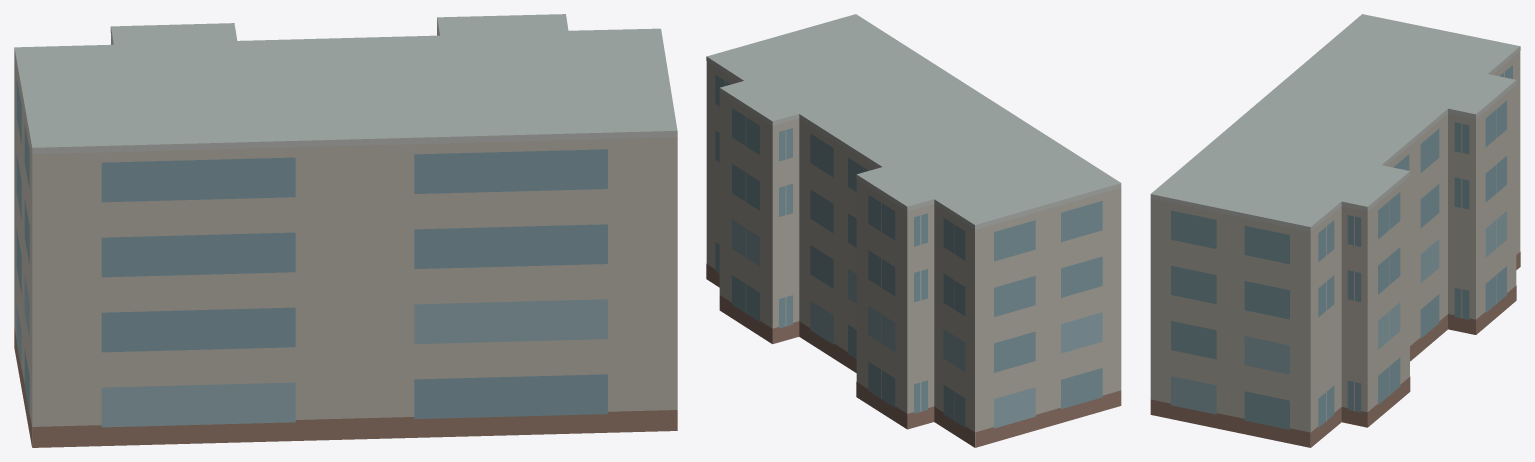
Rendered from survey-upis-32663359.glb.
3 views of the same model, side by side, from view 1: azimuth 30°, elevation 25°; view 2: azimuth 150°, elevation 25°; view 3: azimuth 270°, elevation 25° (orthographic). The views are drawn at different scales.
Parts seen in each view (by area): view 1: survey-upis-32663359.tmp; view 2: survey-upis-32663359.tmp; view 3: survey-upis-32663359.tmp.
Boxes of the visible parts, x1,y1,x2,y2 form: survey-upis-32663359.tmp: [14, 14, 677, 447]; survey-upis-32663359.tmp: [706, 14, 1121, 447]; survey-upis-32663359.tmp: [1150, 14, 1520, 447].
Size of the model in its own units: 23.89 by 11.53 by 17.52.
